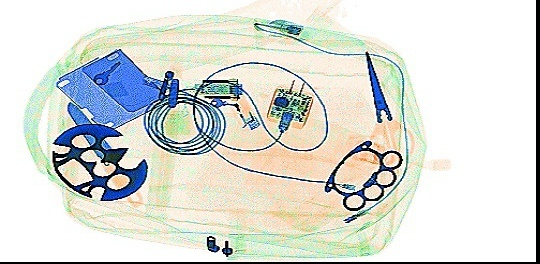knife: (64, 99, 143, 209)
lighter: (223, 78, 261, 132)
scissors: (362, 50, 417, 167)
